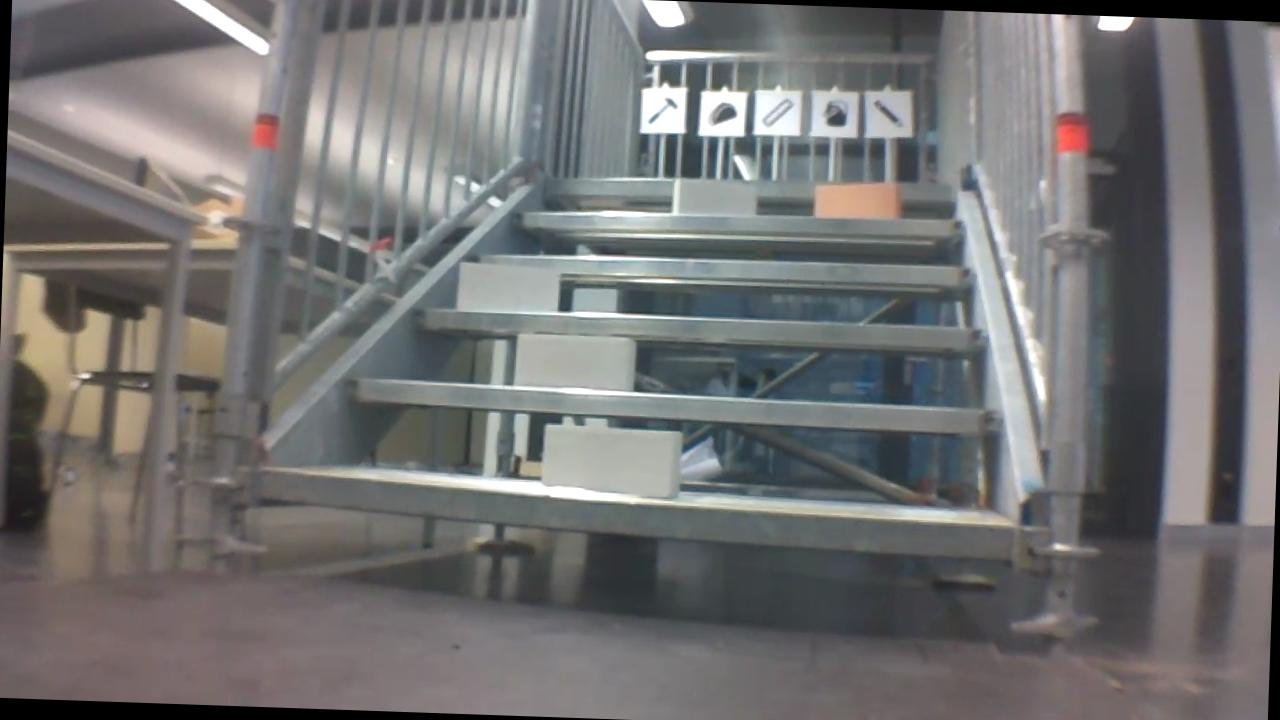brick: (543, 426, 683, 499), (514, 333, 634, 390), (457, 263, 561, 314), (671, 180, 755, 215), (815, 183, 898, 218)
bucket: (817, 94, 853, 134)
edge: (257, 472, 1009, 556), (345, 378, 1004, 433), (414, 309, 984, 350), (471, 251, 977, 288), (511, 205, 961, 241), (539, 171, 959, 205)
hammer: (642, 93, 680, 129)
pencil: (866, 95, 912, 133)
ruler: (759, 98, 794, 132)
steps: (252, 155, 1025, 572)
taco: (708, 98, 743, 130)
